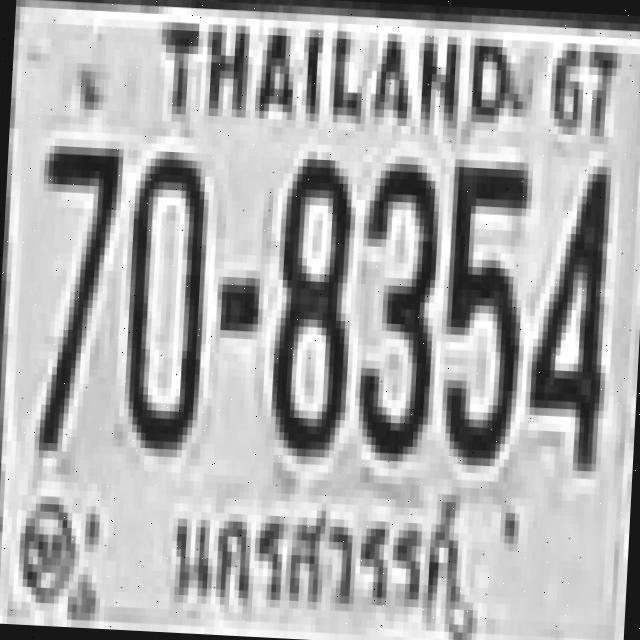0: (118, 142, 206, 442)
3: (350, 155, 439, 455)
4: (523, 156, 612, 464)
5: (435, 151, 529, 460)
7: (30, 138, 119, 446)
8: (265, 150, 354, 450)
NakhonSawan: (164, 480, 466, 634)
